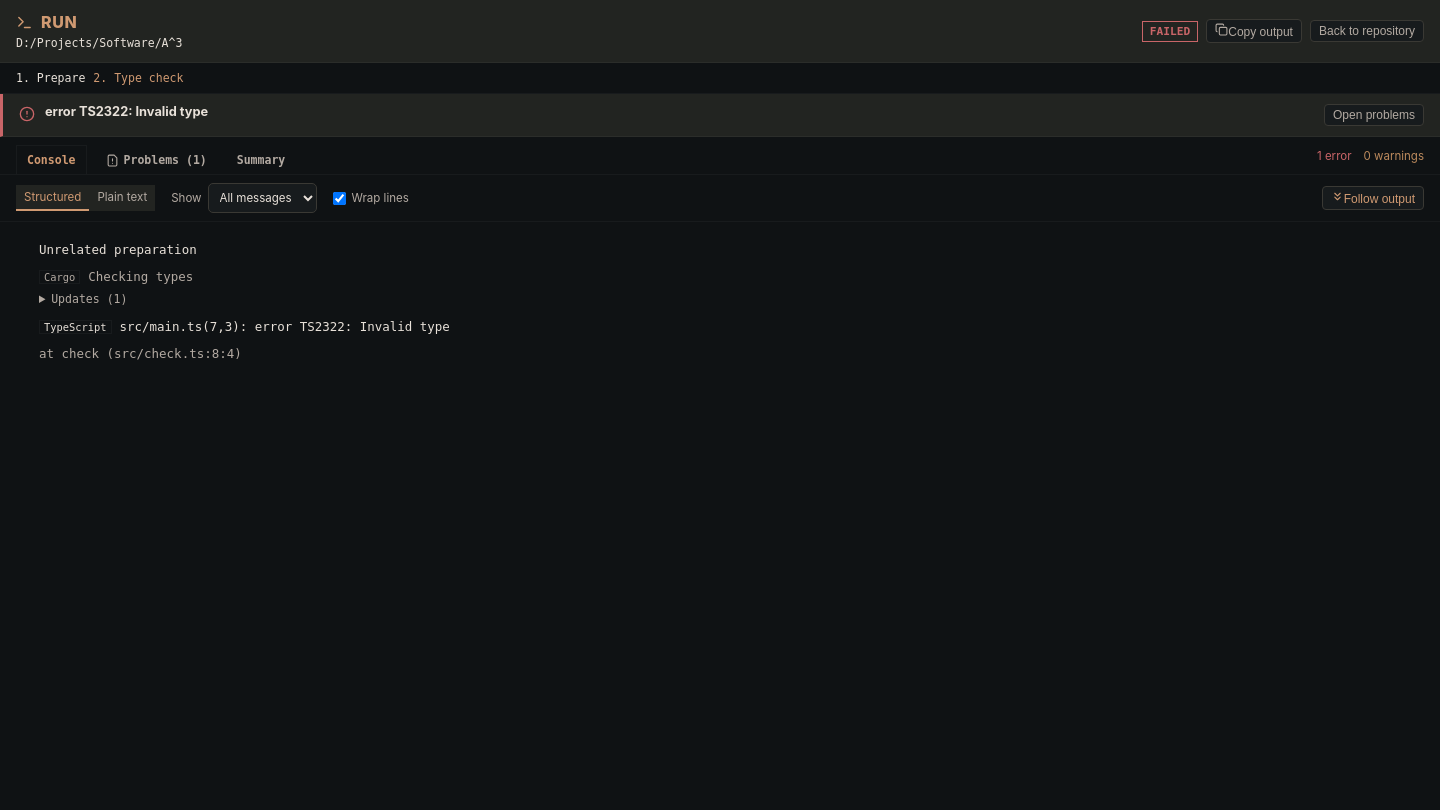
console problem to editable planner draft › keeps the bug draft through explicit creation of a missing repository project
The width and height of the screenshot is (1440, 810).
Click the tab "Problems (1)": (156, 160) [94,145,218,174]
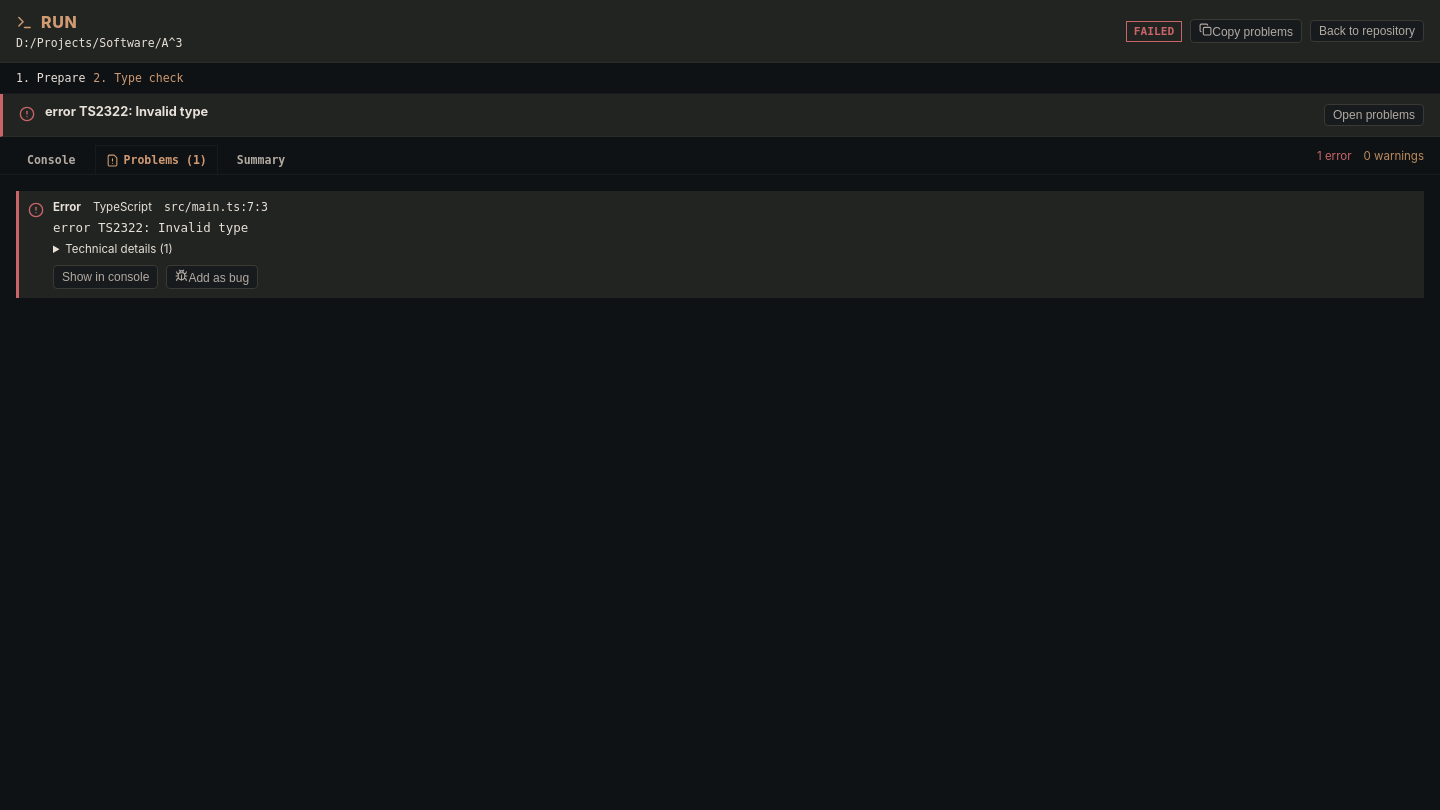
Expected: the button "Add as bug" is shown
Click the button "Add as bug": (212, 277) [166,265,258,289]
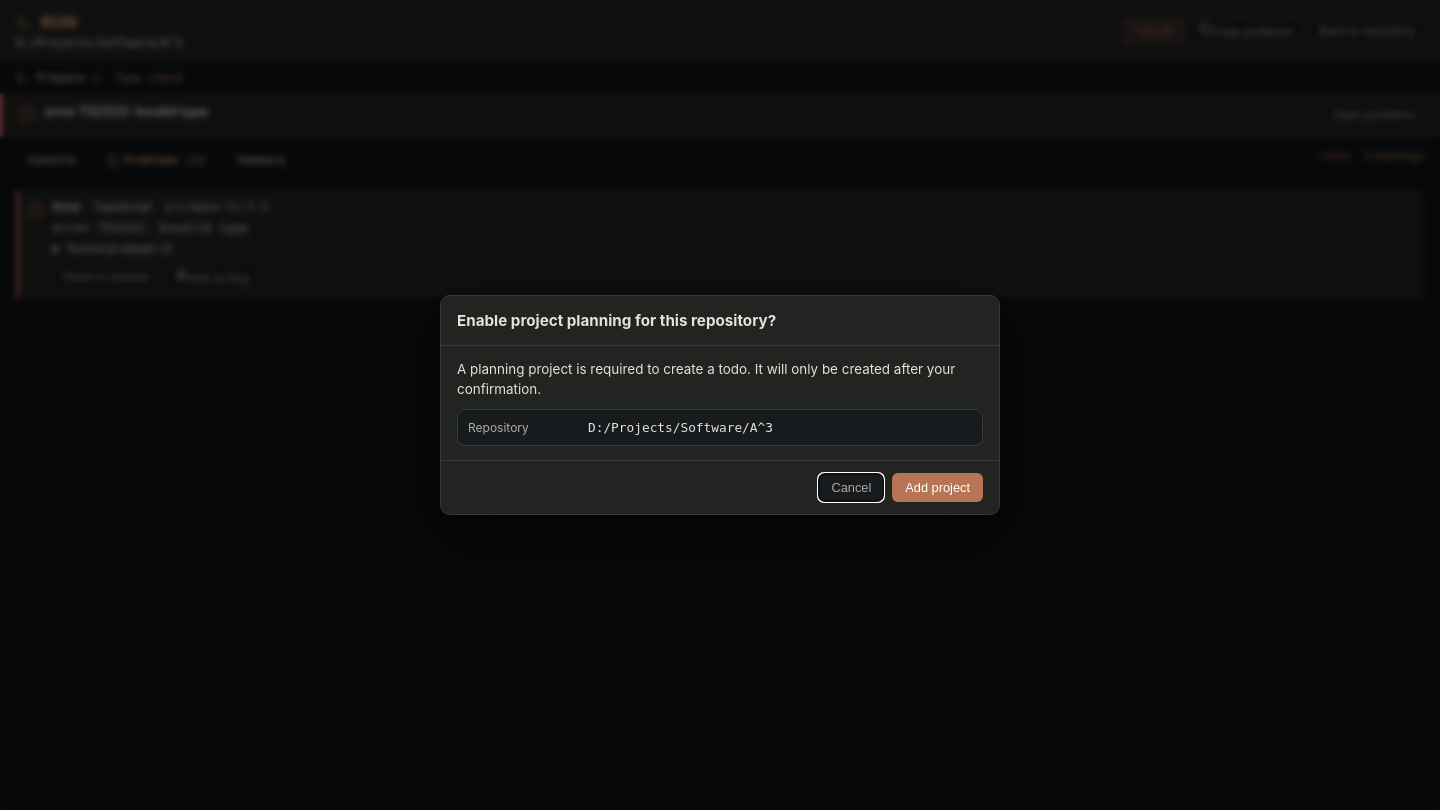
Expected: the text "Enable project planning for this repository?" is shown, [457,311,776,330]
Expected: the button "Add project" is shown
Click the button "Add project": (938, 488) [892,473,983,502]
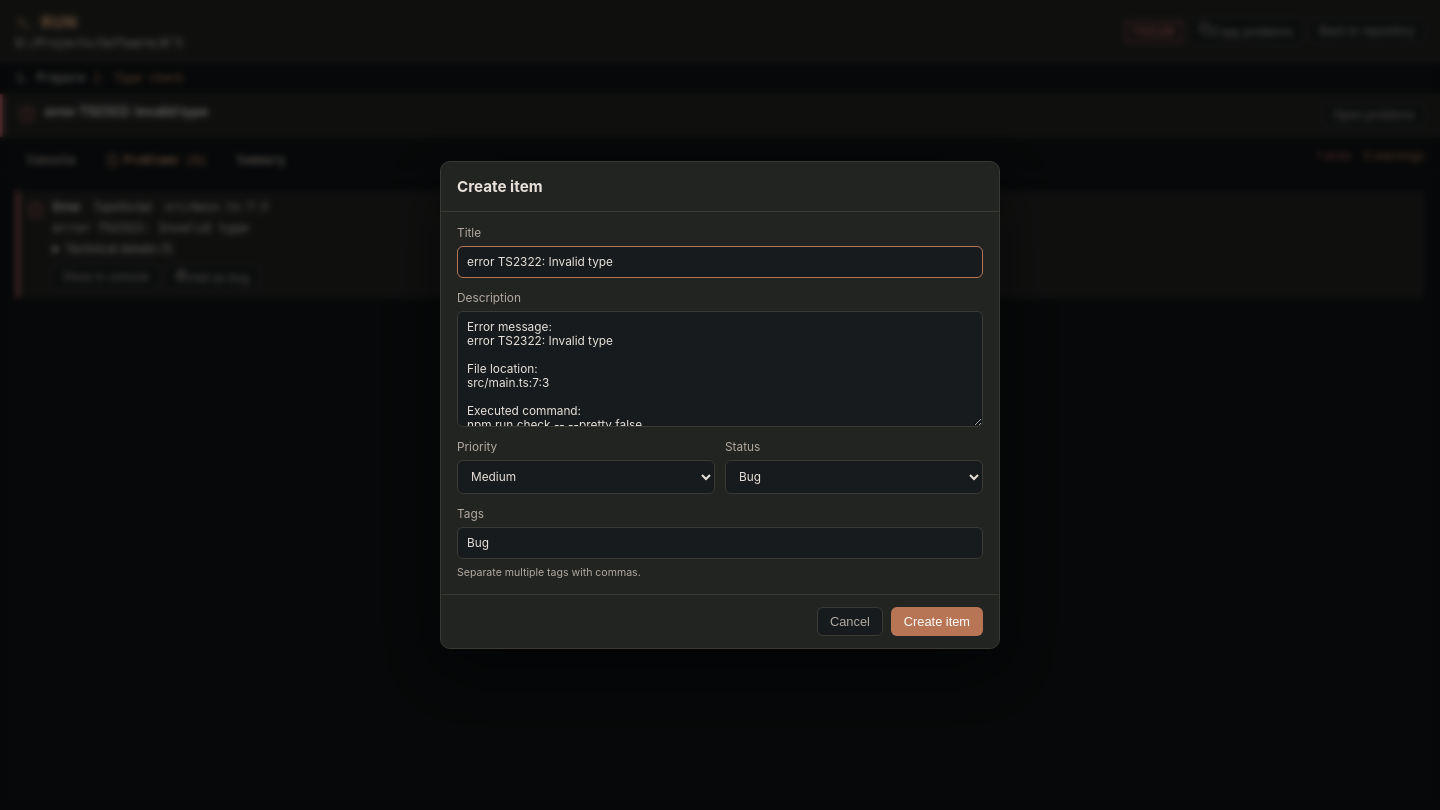
Expected: the dropdown labelled "Status" shows "Bug", [725,460,983,494]
